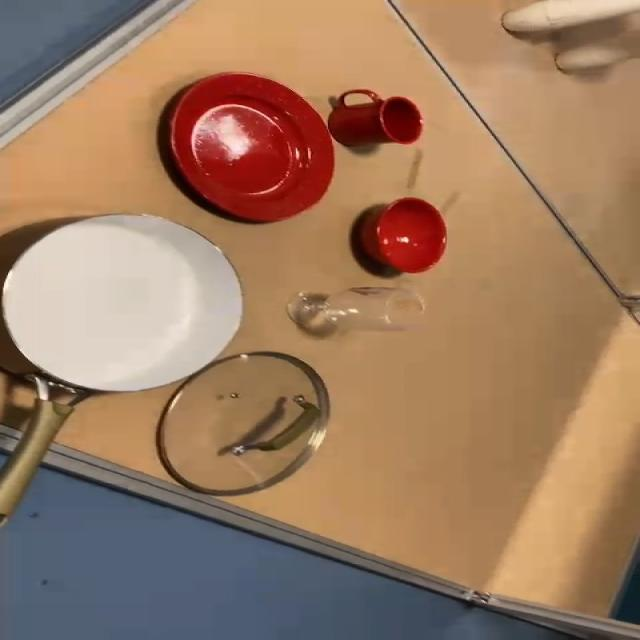Bowl: (350, 194, 447, 280)
Glass: (290, 285, 428, 340)
Plate: (175, 67, 333, 226)
cup: (323, 90, 435, 144)
pot: (3, 212, 244, 510)
